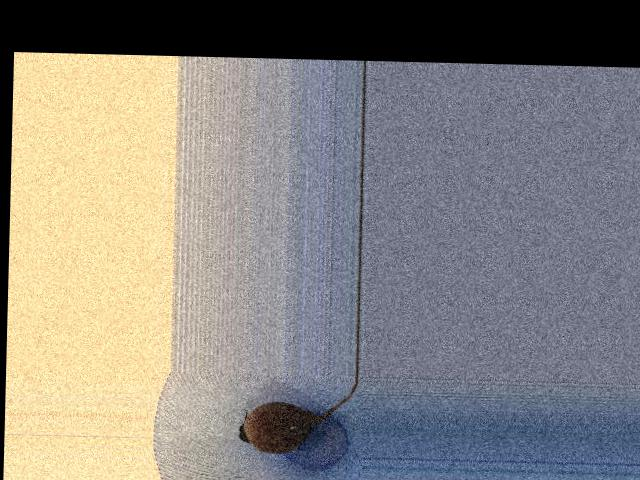beet: (237, 372, 357, 455)
